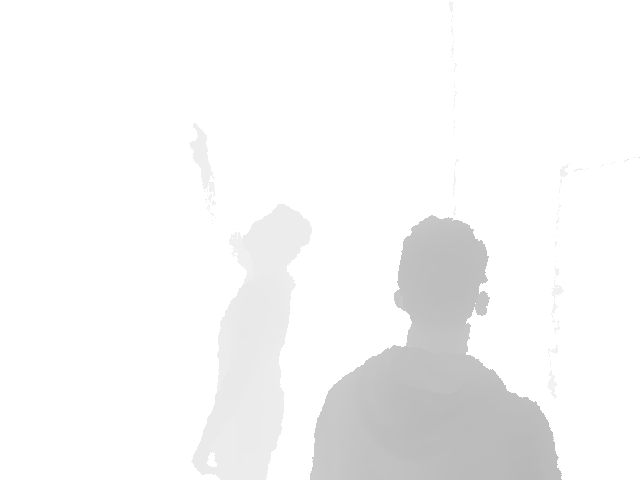hand: (187, 121, 209, 162)
head: (392, 213, 490, 338), (244, 202, 312, 271)
person: (308, 215, 564, 480), (184, 121, 312, 480)
